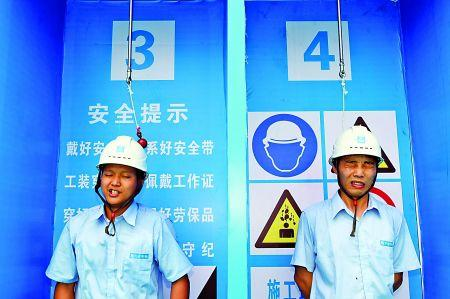helmet: (96, 136, 154, 178), (331, 126, 387, 168)
